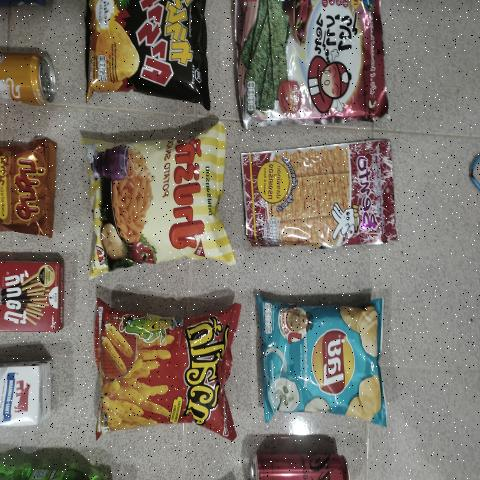bento_red: (240, 142, 392, 254)
karamujo: (88, 0, 204, 99)
lay_blue: (266, 306, 384, 411)
paprika: (93, 138, 217, 272)
taokaenoi: (237, 0, 390, 111)
twisco: (96, 310, 232, 435)
